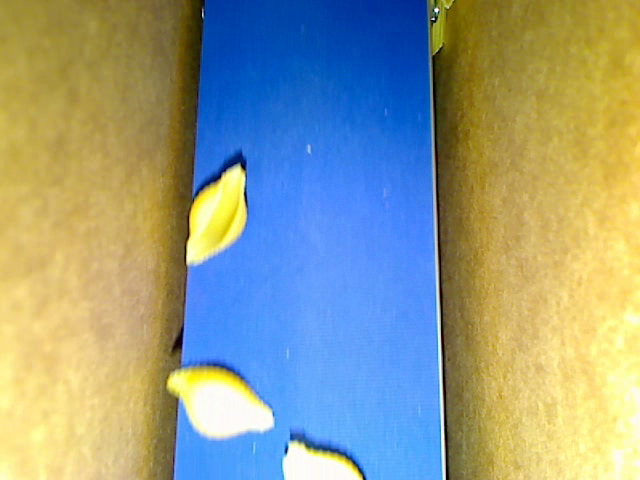penne: (428, 1, 446, 61), (441, 1, 457, 13)
shell: (163, 365, 274, 438), (184, 163, 245, 269), (285, 438, 367, 479)
